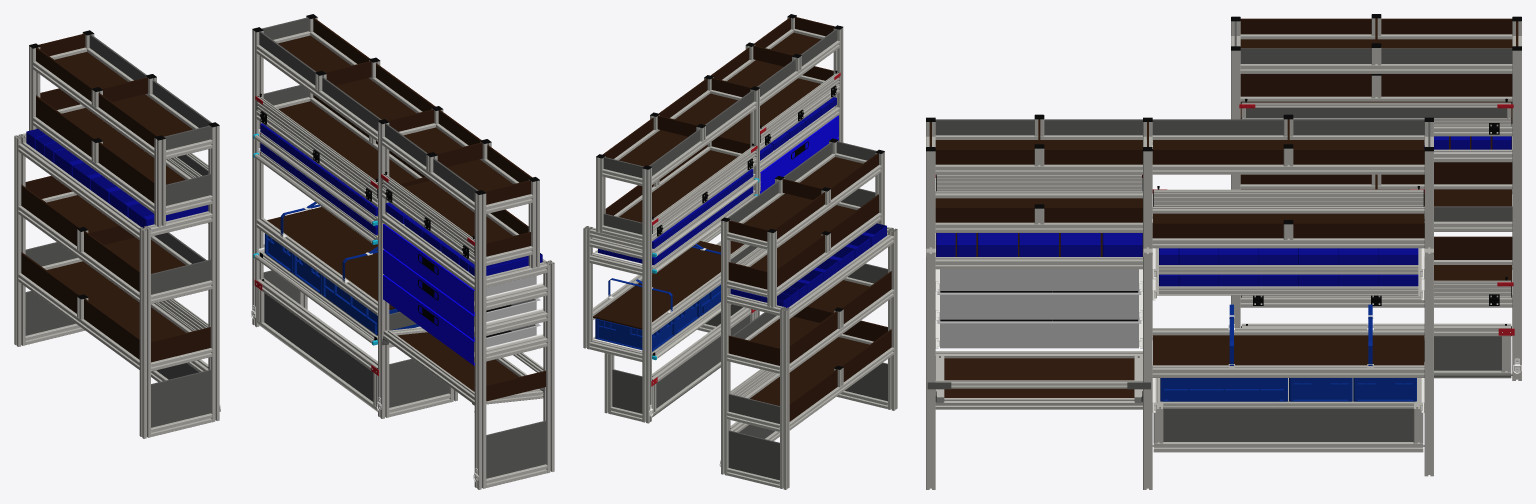
The picture shows the model from 3 angles, left to right: view 1: azimuth 30°, elevation 25°; view 2: azimuth 150°, elevation 25°; view 3: azimuth 270°, elevation 25°; orthographic projection. The views are drawn at different scales.
Parts seen in each view (by area): view 1: n0, n48, n58, n60, n56, n2, n50, n40, n24, n8, n46, n102 (+5 smaller); view 2: n0, n48, n56, n2, n42, n50, n8, n24, n40, n74, n68, n44 (+5 smaller); view 3: n0, n48, n60, n58, n62, n74, n2, n56, n50, n46, n8, n24 (+14 smaller).
Boxes of the visible parts, x1,y1,x2,y2 form: n0: [14, 14, 554, 489]; n48: [254, 278, 378, 411]; n58: [383, 249, 540, 340]; n60: [383, 275, 540, 365]; n56: [383, 224, 540, 314]; n2: [255, 96, 378, 198]; n50: [381, 174, 474, 255]; n40: [253, 250, 377, 345]; n24: [253, 151, 377, 244]; n8: [253, 132, 377, 225]; n46: [322, 275, 419, 335]; n102: [128, 204, 208, 227]; n0: [583, 14, 897, 489]; n48: [651, 307, 755, 417]; n56: [760, 115, 838, 193]; n2: [652, 145, 757, 233]; n42: [595, 318, 675, 351]; n50: [760, 72, 840, 142]; n8: [652, 176, 759, 257]; n24: [594, 192, 757, 273]; n40: [593, 302, 720, 360]; n74: [730, 421, 779, 441]; n68: [730, 369, 774, 396]; n44: [675, 300, 699, 334]; n0: [926, 14, 1521, 489]; n48: [1153, 407, 1423, 452]; n60: [937, 318, 1141, 348]; n58: [937, 289, 1141, 319]; n62: [1239, 102, 1513, 126]; n74: [1241, 323, 1514, 378]; n2: [1152, 189, 1424, 206]; n56: [937, 269, 1141, 290]; n50: [935, 174, 1142, 191]; n46: [1160, 378, 1287, 401]; n8: [1154, 248, 1422, 276]; n24: [1154, 274, 1422, 298].
Size of the model in its own units: 1663 by 1717 by 2778.
